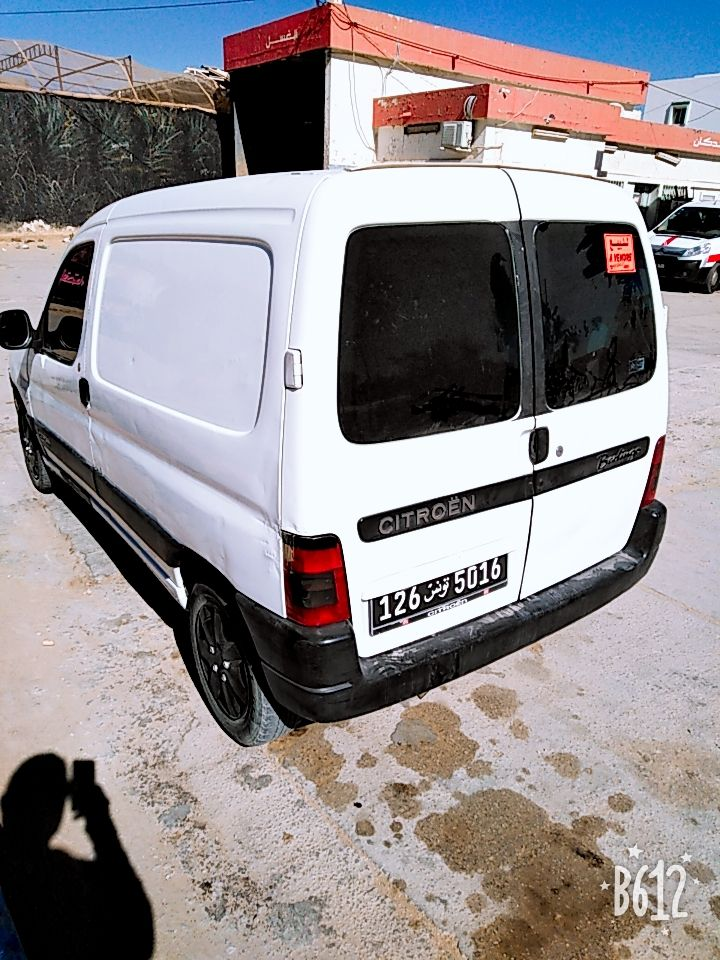LP: (374, 553, 505, 623)
